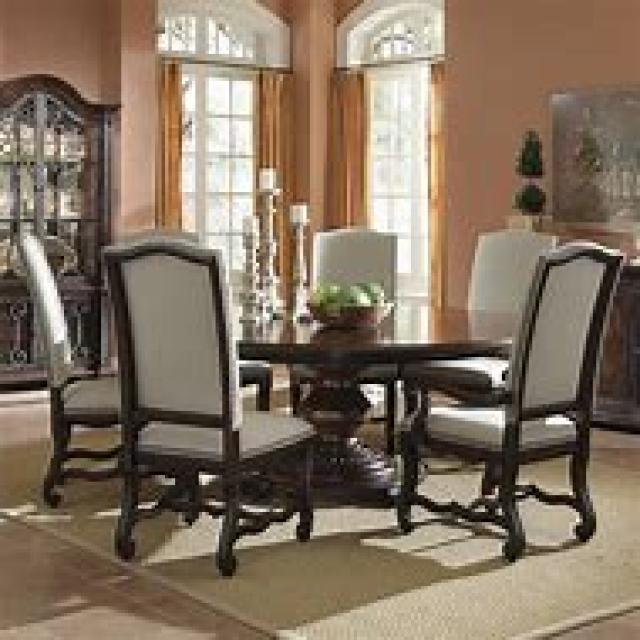chair: (98, 236, 316, 576), (394, 236, 623, 559), (17, 229, 269, 509)
table: (229, 303, 519, 532)
